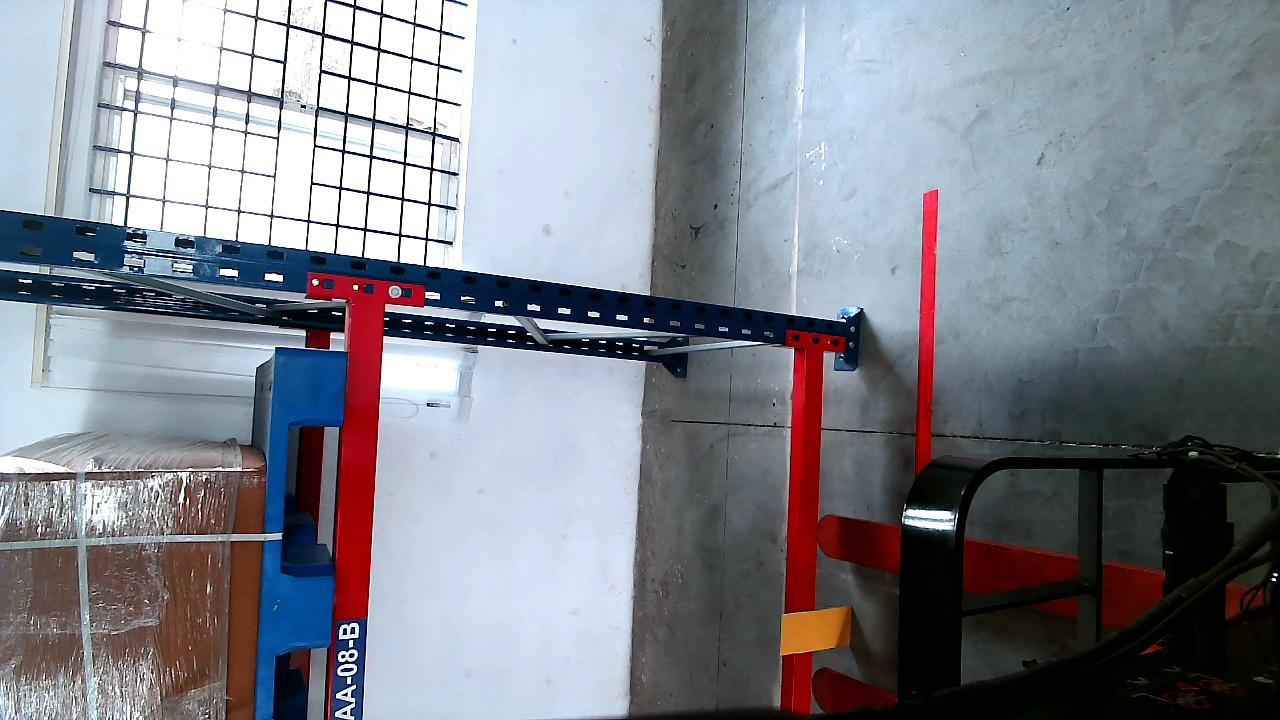red_line: (912, 190, 937, 475)
